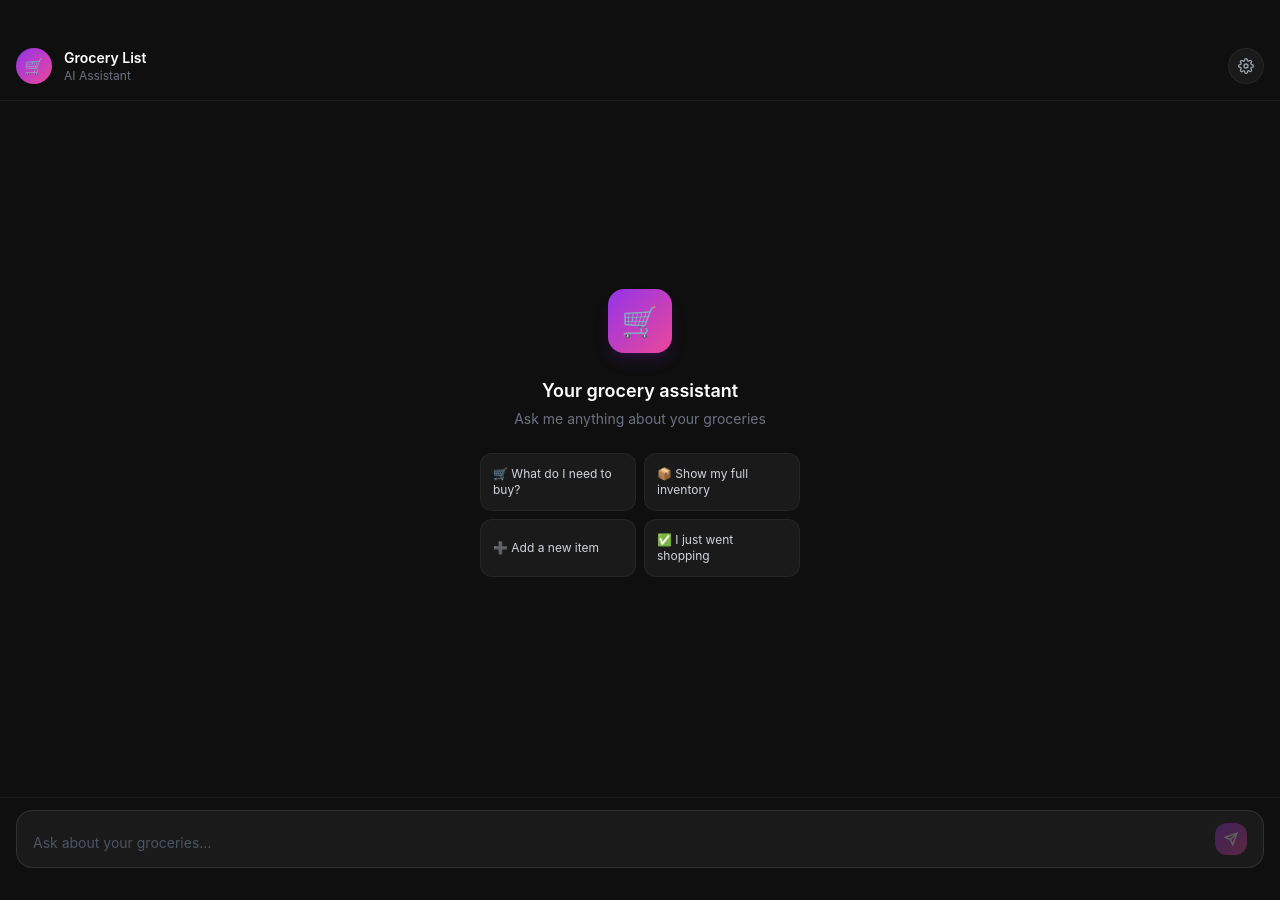
Test case: ChatPage — markdown table response › renders table headers correctly
Click the button "📦 Show my full inventory". click: (722, 482)
box: [644,453,800,511]
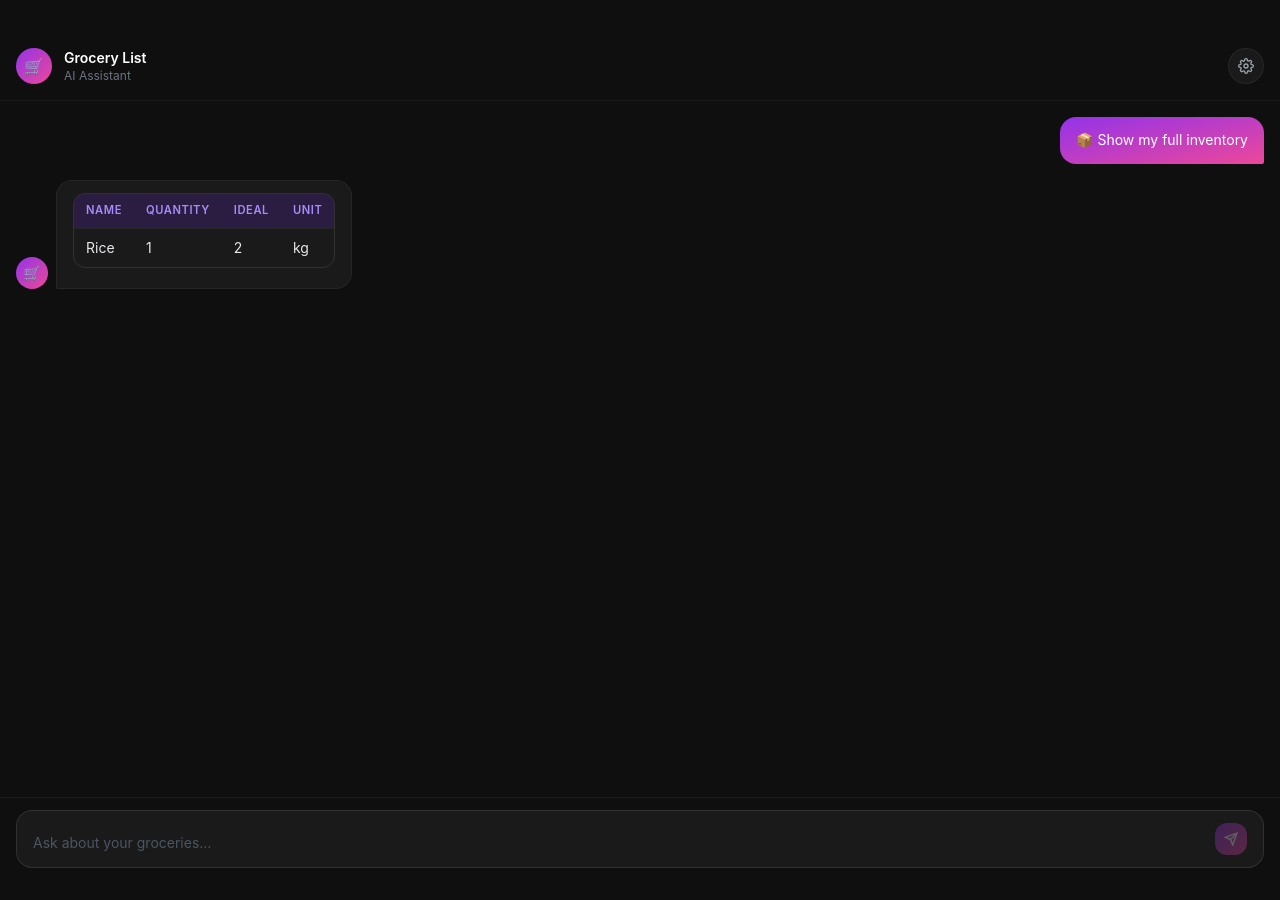
Expected: the column heading "Name" is shown, [74,194,134,228]
Expected: the column heading "Quantity" is shown, [134,194,222,228]
Expected: the column heading "Ideal" is shown, [222,194,281,228]
